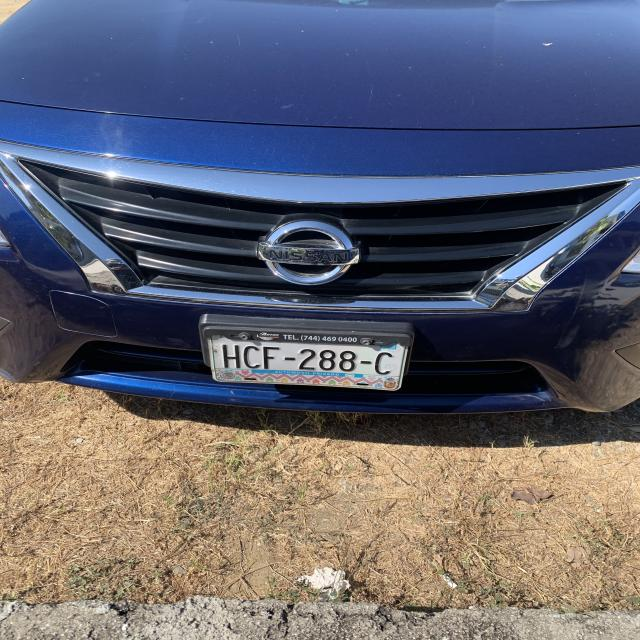placa: (212, 340, 403, 374)
